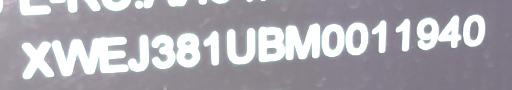letter: (50, 38, 100, 74), (284, 23, 322, 61), (20, 40, 56, 77), (224, 26, 256, 66), (256, 24, 286, 64), (98, 35, 130, 72), (175, 32, 203, 68), (150, 32, 176, 70), (127, 32, 151, 71), (461, 12, 487, 47), (414, 17, 440, 52), (438, 13, 462, 49), (320, 22, 344, 58), (345, 21, 369, 56), (201, 28, 221, 66), (370, 19, 390, 54), (394, 16, 412, 52)
